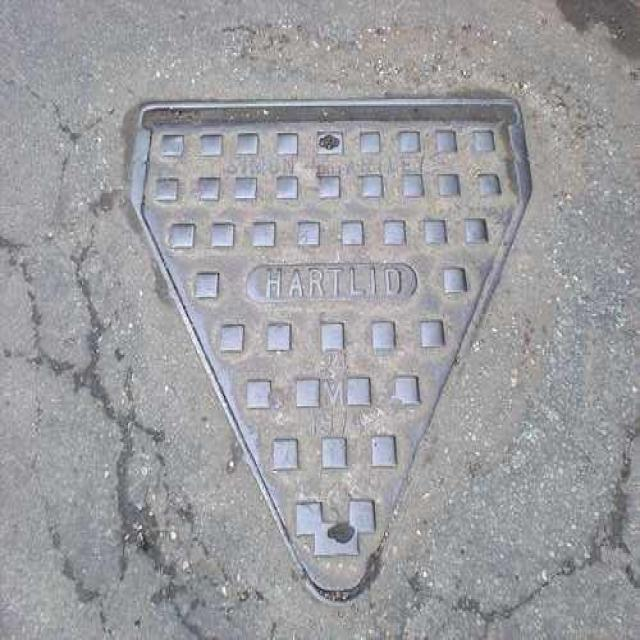manhole: (131, 97, 530, 599)
